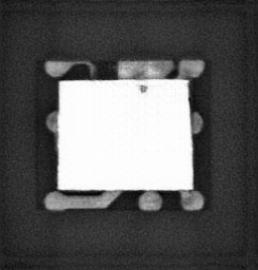DIE_INK: (136, 82, 150, 93)
